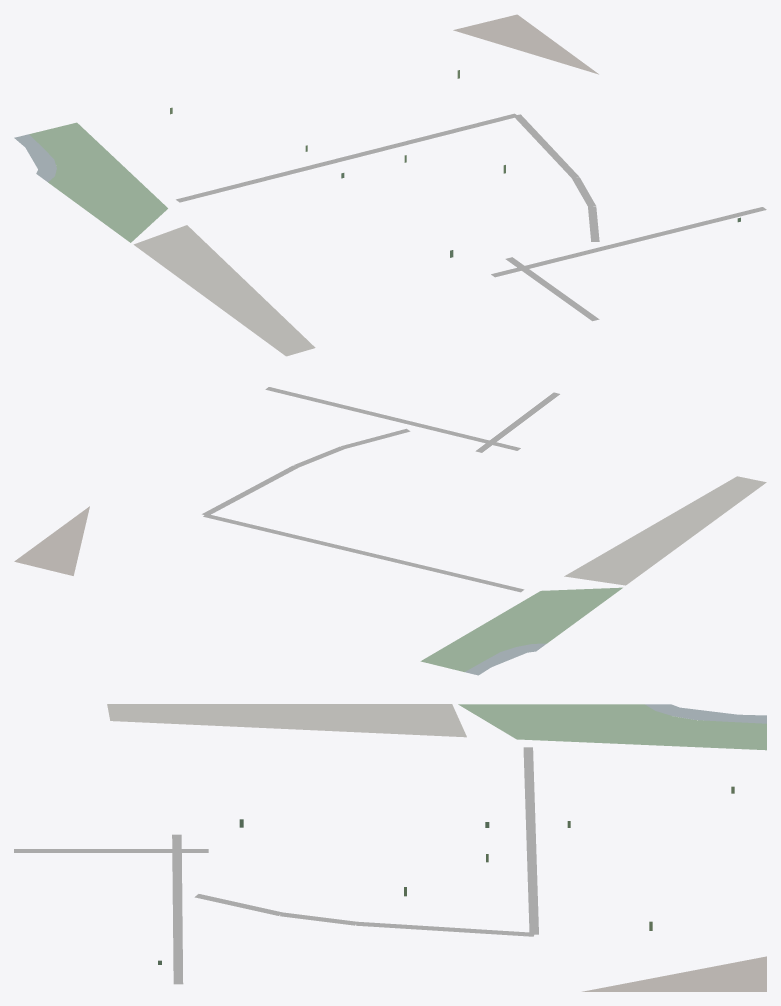
The picture shows the model from 3 angles, top to bottom: view 1: azimuth 30°, elevation 25°; view 2: azimuth 150°, elevation 25°; view 3: azimuth 270°, elevation 25°; orthographic projection. The views are drawn at different scales.
Bounding box in the file's own units: 500 × 8.66 × 552.
